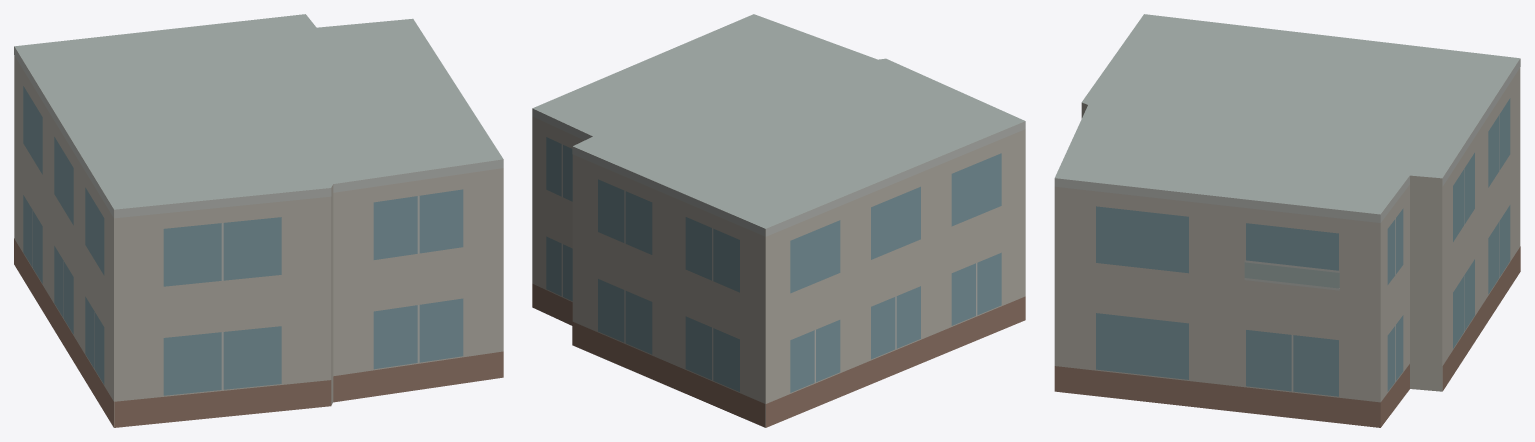
Rendered from survey-upis-32671496.glb.
The picture shows the model from 3 angles, left to right: view 1: azimuth 30°, elevation 25°; view 2: azimuth 150°, elevation 25°; view 3: azimuth 270°, elevation 25°; orthographic projection. The views are drawn at different scales.
Visible parts, largest first — view 1: survey-upis-32671496.tmp; view 2: survey-upis-32671496.tmp; view 3: survey-upis-32671496.tmp.
Boxes of the visible parts, <box> form: survey-upis-32671496.tmp: <box>14,14,503,427</box>; survey-upis-32671496.tmp: <box>532,14,1025,427</box>; survey-upis-32671496.tmp: <box>1054,14,1520,427</box>.
Size of the model in its own units: 12.3 by 6.1 by 12.08.
